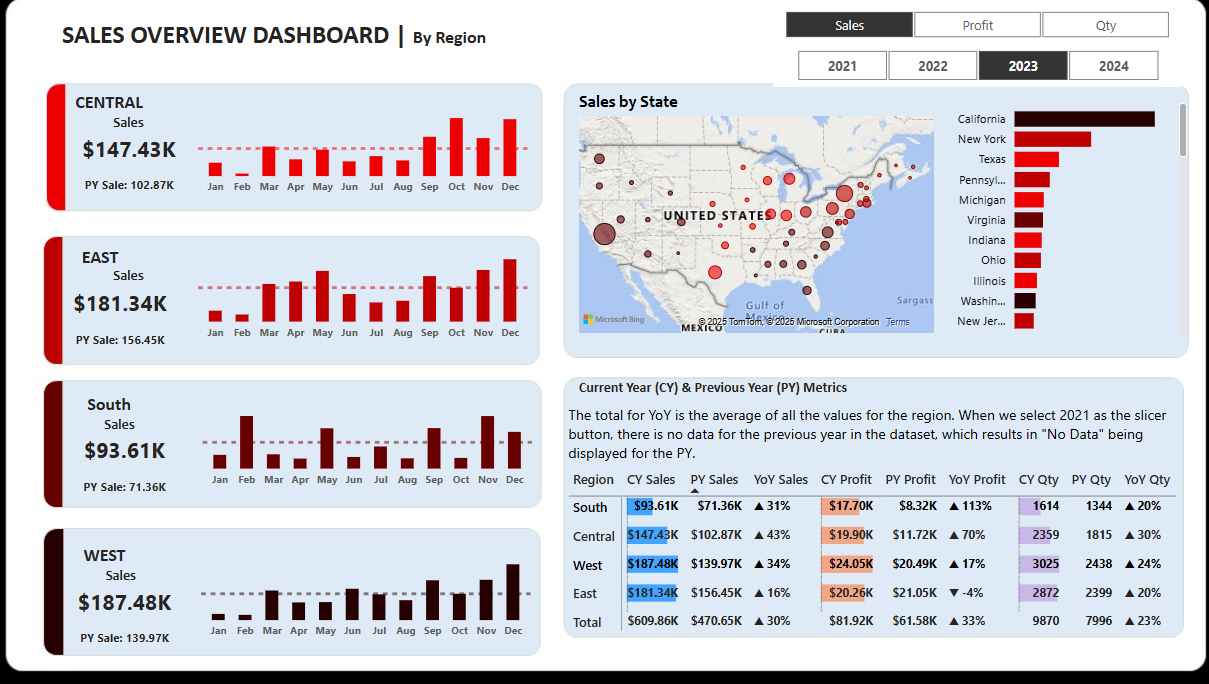

What the dashboard file says about the page in this screenshot:
{"tool":"powerbi","page":{"name":"Page 1","canvas":[1280,720],"ordinal":0},"visuals":[{"type":"slicer","fields":{"Values":["Select Metric.Select Metric"]},"box":[804.3,12.5,448.2,40.6],"z":0},{"type":"card","fields":{"Values":["Sales Data.Total Sales"]},"box":[68.7,140.6,156.2,45.3],"z":1000},{"type":"textbox","box":[79.7,96.8,90.6,43.7],"z":2000},{"type":"slicer","fields":{"Values":["Calendar Table.Year"]},"box":[817,52.5,424.4,44.5],"z":3000},{"type":"card","fields":{"Values":["Sales Data.Dynamic Title"]},"box":[79.7,118.7,132.8,35.9],"z":4000},{"type":"card","fields":{"Values":["Sales Data.PY KPI Sales"]},"box":[79.7,185.9,132.8,32.8],"z":5000},{"type":"clusteredColumnChart","fields":{"Y":["Sales Data.Total Sales"],"Category":["Calendar Table.Month"]},"box":[212.4,106.2,354.5,112.5],"z":6000},{"type":"textbox","box":[32.8,21.9,534.1,48.4],"z":7000},{"type":"card","fields":{"Values":["Sales Data.Total Sales"]},"box":[60,301.5,156.2,45.3],"z":8000},{"type":"textbox","box":[70.9,257.8,90.6,43.7],"z":9000},{"type":"card","fields":{"Values":["Sales Data.PY KPI Sales"]},"box":[70.9,346.8,132.8,32.8],"z":10000},{"type":"clusteredColumnChart","fields":{"Y":["Sales Data.Total Sales"],"Category":["Calendar Table.Month"]},"box":[212.4,257.7,354.5,112.5],"z":11000},{"type":"card","fields":{"Values":["Sales Data.Total Sales"]},"box":[64.8,455.2,156.2,45.3],"z":12000},{"type":"textbox","box":[79.7,410.8,90.6,43.7],"z":13000},{"type":"card","fields":{"Values":["Sales Data.PY KPI Sales"]},"box":[75.7,500.5,132.8,32.8],"z":14000},{"type":"clusteredColumnChart","fields":{"Y":["Sales Data.Total Sales"],"Category":["Calendar Table.Month"]},"box":[217.2,411.4,354.5,112.5],"z":15000},{"type":"card","fields":{"Values":["Sales Data.Total Sales"]},"box":[63.7,612.5,156.2,45.3],"z":16000},{"type":"textbox","box":[74.7,568.7,90.6,43.7],"z":17000},{"type":"card","fields":{"Values":["Sales Data.PY KPI Sales"]},"box":[74.7,657.7,132.8,32.8],"z":18000},{"type":"clusteredColumnChart","fields":{"Y":["Sales Data.Total Sales"],"Category":["Calendar Table.Month"]},"box":[216.2,568.6,354.5,112.5],"z":19000},{"type":"card","fields":{"Values":["Sales Data.Dynamic Title"]},"box":[79.7,278,132.8,35.9],"z":20000},{"type":"card","fields":{"Values":["Sales Data.Dynamic Title"]},"box":[70.3,432.6,132.8,35.9],"z":21000},{"type":"card","fields":{"Values":["Sales Data.Dynamic Title"]},"box":[71.8,589.6,132.3,35.9],"z":22000},{"type":"map","title":"Sales by State","fields":{"Size":["Sales Data.Total Sales"],"Category":["Sales Data.State/Province"],"Series":["Sales Data.Region"]},"box":[609.1,101.5,379.5,257.7],"z":23000},{"type":"barChart","fields":{"Y":["Sales Data.Total Sales"],"Category":["Sales Data.State/Province"],"Series":["Sales Data.Region"]},"box":[988.6,101.5,263.9,262.4],"z":24000},{"type":"pivotTable","fields":{"Rows":["Sales Data.Region"],"Values":["Sales Data.CY Sales","Sales Data.PY Sales","Sales Data.YoY Sales","Sales Data.CY Profit","Sales Data.PY Profit","Sales Data.YoY Profit","Sales Data.CY Qty","Sales Data.PY Qty","Sales Data.YoY Qty"]},"box":[598.2,490.4,643.5,190.5],"z":25000},{"type":"textbox","box":[609.1,395.1,299.9,37.5],"z":25001},{"type":"textbox","box":[598.2,423.3,654.4,76.5],"z":25002}]}

Visuals, with their boxes in screenshot pixels (x1, y1, x2, y2), scaled from the page's 1280x720 canvas onto the 1209x684 screenshot:
slicer - Select Metric.Select Metric: detection(760, 12, 1183, 50)
card - Sales Data.Total Sales: detection(65, 134, 212, 177)
textbox: detection(75, 92, 161, 133)
slicer - Calendar Table.Year: detection(772, 50, 1173, 92)
card - Sales Data.Dynamic Title: detection(75, 113, 201, 147)
card - Sales Data.PY KPI Sales: detection(75, 177, 201, 208)
clusteredColumnChart - Sales Data.Total Sales x Calendar Table.Month: detection(201, 101, 535, 208)
textbox: detection(31, 21, 535, 67)
card - Sales Data.Total Sales: detection(57, 286, 204, 329)
textbox: detection(67, 245, 153, 286)
card - Sales Data.PY KPI Sales: detection(67, 329, 192, 361)
clusteredColumnChart - Sales Data.Total Sales x Calendar Table.Month: detection(201, 245, 535, 352)
card - Sales Data.Total Sales: detection(61, 432, 209, 475)
textbox: detection(75, 390, 161, 432)
card - Sales Data.PY KPI Sales: detection(72, 475, 197, 507)
clusteredColumnChart - Sales Data.Total Sales x Calendar Table.Month: detection(205, 391, 540, 498)
card - Sales Data.Total Sales: detection(60, 582, 208, 625)
textbox: detection(71, 540, 156, 582)
card - Sales Data.PY KPI Sales: detection(71, 625, 196, 656)
clusteredColumnChart - Sales Data.Total Sales x Calendar Table.Month: detection(204, 540, 539, 647)
card - Sales Data.Dynamic Title: detection(75, 264, 201, 298)
card - Sales Data.Dynamic Title: detection(66, 411, 192, 445)
card - Sales Data.Dynamic Title: detection(68, 560, 193, 594)
"Sales by State" map: detection(575, 96, 934, 341)
barChart - Sales Data.Total Sales x Sales Data.State/Province: detection(934, 96, 1183, 346)
pivotTable - Sales Data.Region x Sales Data.CY Sales: detection(565, 466, 1173, 647)
textbox: detection(575, 375, 859, 411)
textbox: detection(565, 402, 1183, 475)
